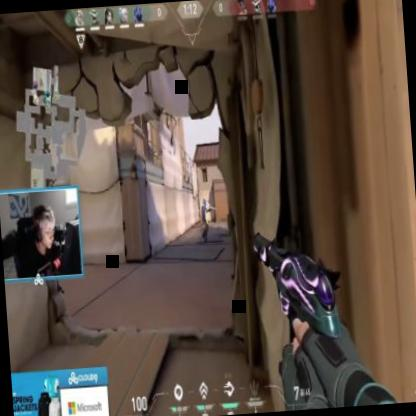enemy: (198, 196, 212, 242)
enemy_head: (203, 198, 206, 205)
